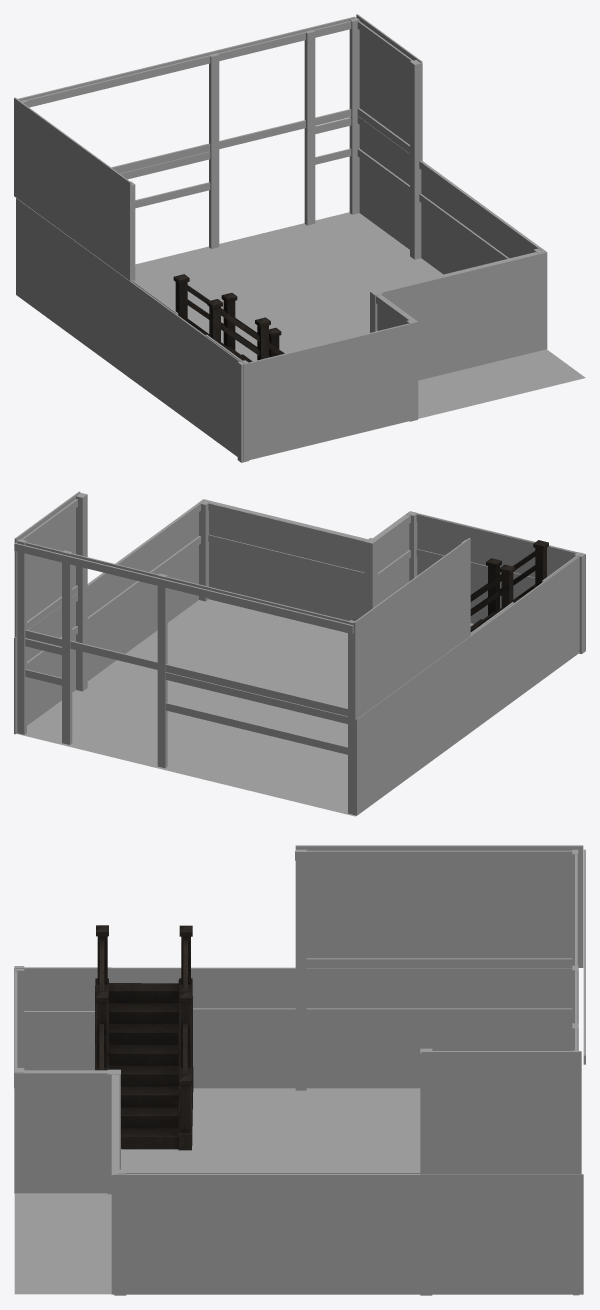
File: Room2Library.fbx
The picture shows the model from 3 angles, top to bottom: view 1: azimuth 30°, elevation 25°; view 2: azimuth 150°, elevation 25°; view 3: azimuth 270°, elevation 25°; orthographic projection. The views are drawn at different scales.
Visible parts, largest first — view 1: floor, pasted__pCube39, pasted__pCube226, pasted__pCube43, pasted__pCube57, pasted__pCube60, stairs1, pasted__pCube124, pasted__pCube234, pasted__pCube126, pasted__pCube125, pasted__pCube127 (+6 smaller); view 2: floor, pasted__pCube39, pasted__pCube226, pasted__pCube57, pasted__pCube43, pasted__pCube60, pasted__pCube96, pasted__pCube119, stairs1, pasted__pCube234, pasted__pCube126, pasted__pCube125 (+16 smaller); view 3: pasted__pCube39, pasted__pCube226, floor, pasted__pCube57, pasted__pCube60, stairs1, pasted__pCube168, pasted__pCube166, pasted__pCube165, pasted__pCube185, pasted__pCube178, pasted__pCube167 (+6 smaller).
Part boxes in pixels (<box>): floor: <box>135,212,585,418</box>; pasted__pCube39: <box>359,125,547,418</box>; pasted__pCube226: <box>16,198,245,461</box>; pasted__pCube43: <box>240,323,414,461</box>; pasted__pCube57: <box>14,97,131,280</box>; pasted__pCube60: <box>356,14,422,144</box>; stairs1: <box>173,274,284,362</box>; pasted__pCube124: <box>26,21,351,107</box>; pasted__pCube234: <box>410,60,422,259</box>; pasted__pCube126: <box>304,30,315,225</box>; pasted__pCube125: <box>209,53,219,248</box>; pasted__pCube127: <box>349,18,359,214</box>; floor: <box>16,599,473,816</box>; pasted__pCube39: <box>14,499,409,734</box>; pasted__pCube226: <box>355,556,579,815</box>; pasted__pCube57: <box>353,538,470,720</box>; pasted__pCube43: <box>417,513,585,650</box>; pasted__pCube60: <box>14,491,80,637</box>; pasted__pCube96: <box>14,543,353,633</box>; pasted__pCube119: <box>25,629,347,716</box>; stairs1: <box>470,540,548,632</box>; pasted__pCube234: <box>76,492,87,691</box>; pasted__pCube126: <box>62,550,72,744</box>; pasted__pCube125: <box>157,573,167,768</box>; pasted__pCube39: <box>15,1071,583,1294</box>; pasted__pCube226: <box>14,967,578,1088</box>; floor: <box>14,1088,420,1294</box>; pasted__pCube57: <box>295,845,583,967</box>; pasted__pCube60: <box>421,1051,581,1174</box>; stairs1: <box>95,925,193,1150</box>; pasted__pCube168: <box>193,1008,572,1018</box>; pasted__pCube166: <box>191,967,572,977</box>; pasted__pCube165: <box>295,850,572,860</box>; pasted__pCube185: <box>306,958,572,968</box>; pasted__pCube178: <box>295,849,306,1090</box>; pasted__pCube167: <box>15,967,111,977</box>.
Size of the model in its own units: 2426 by 1322 by 2811.
